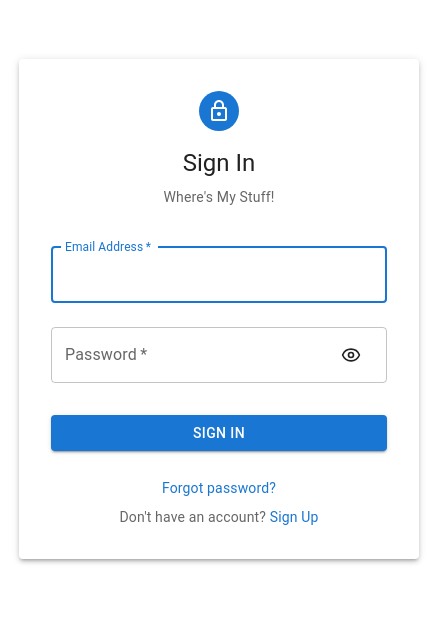
Preservation Property Tests: Authentication Flow Behavior › should display error message for NotAuthorizedException
Type "test@example.com" into the field labelled "Email Address *".
click(219, 275); type("test@example.com")  # box [51,247,387,303]
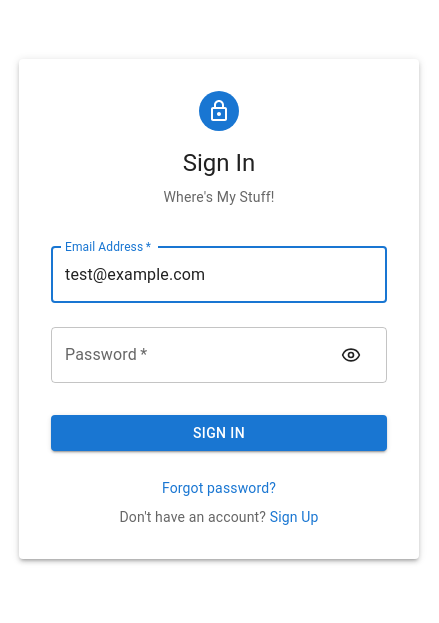
Type "WrongPassword123!" into the password field labelled "Password *".
click(190, 355); type("WrongPassword123!")  # box [51,327,329,383]
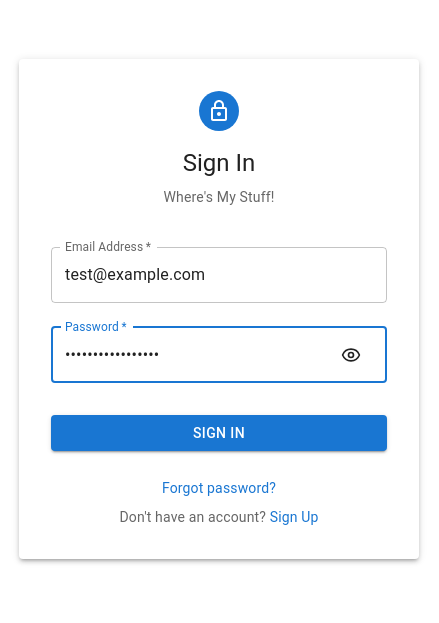
# Submit form
Click the button "Sign In".
click(219, 433)  # box [51,415,387,452]
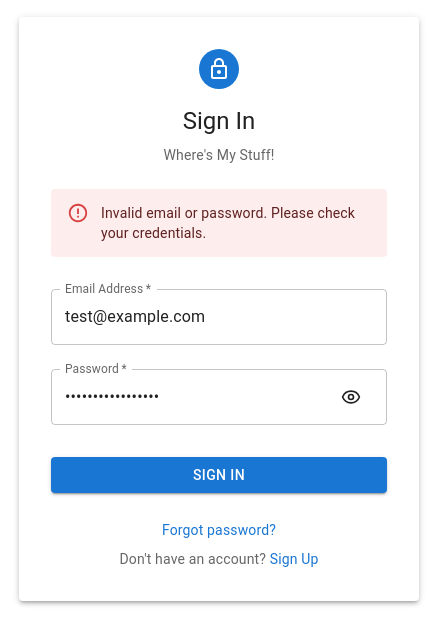
Expected: the message shows "Invalid email or password", [101,205,355,241]
